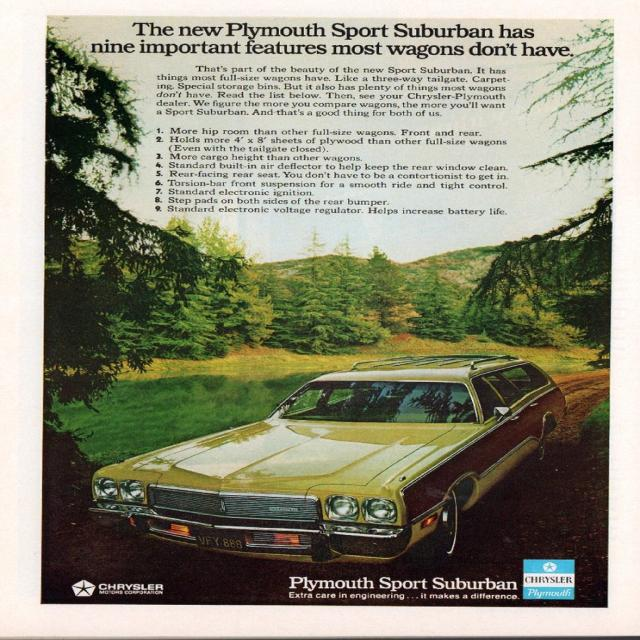car: (99, 362, 566, 559)
